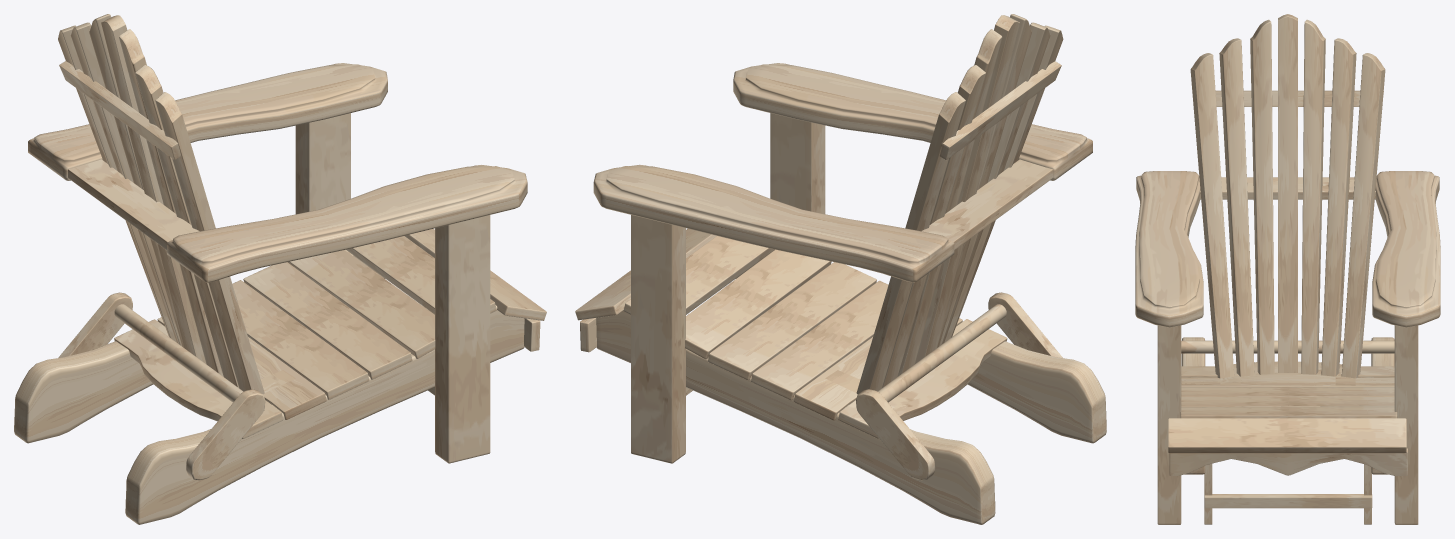
File: Adirondack Chair High Res.fbx
3 views of the same model, side by side, from view 1: azimuth 30°, elevation 25°; view 2: azimuth 150°, elevation 25°; view 3: azimuth 270°, elevation 25° (orthographic). The views are drawn at different scales.
Parts seen in each view (by area): view 1: Chair; view 2: Chair; view 3: Chair.
Boxes of the visible parts, box(x1,y1,x2,y2) form: Chair: box(14, 14, 546, 524); Chair: box(575, 14, 1106, 524); Chair: box(1135, 14, 1440, 524).
Bounding box in the file's own units: 16.6 × 17.98 × 12.88.
Materials: 1 (1 with a texture image).
